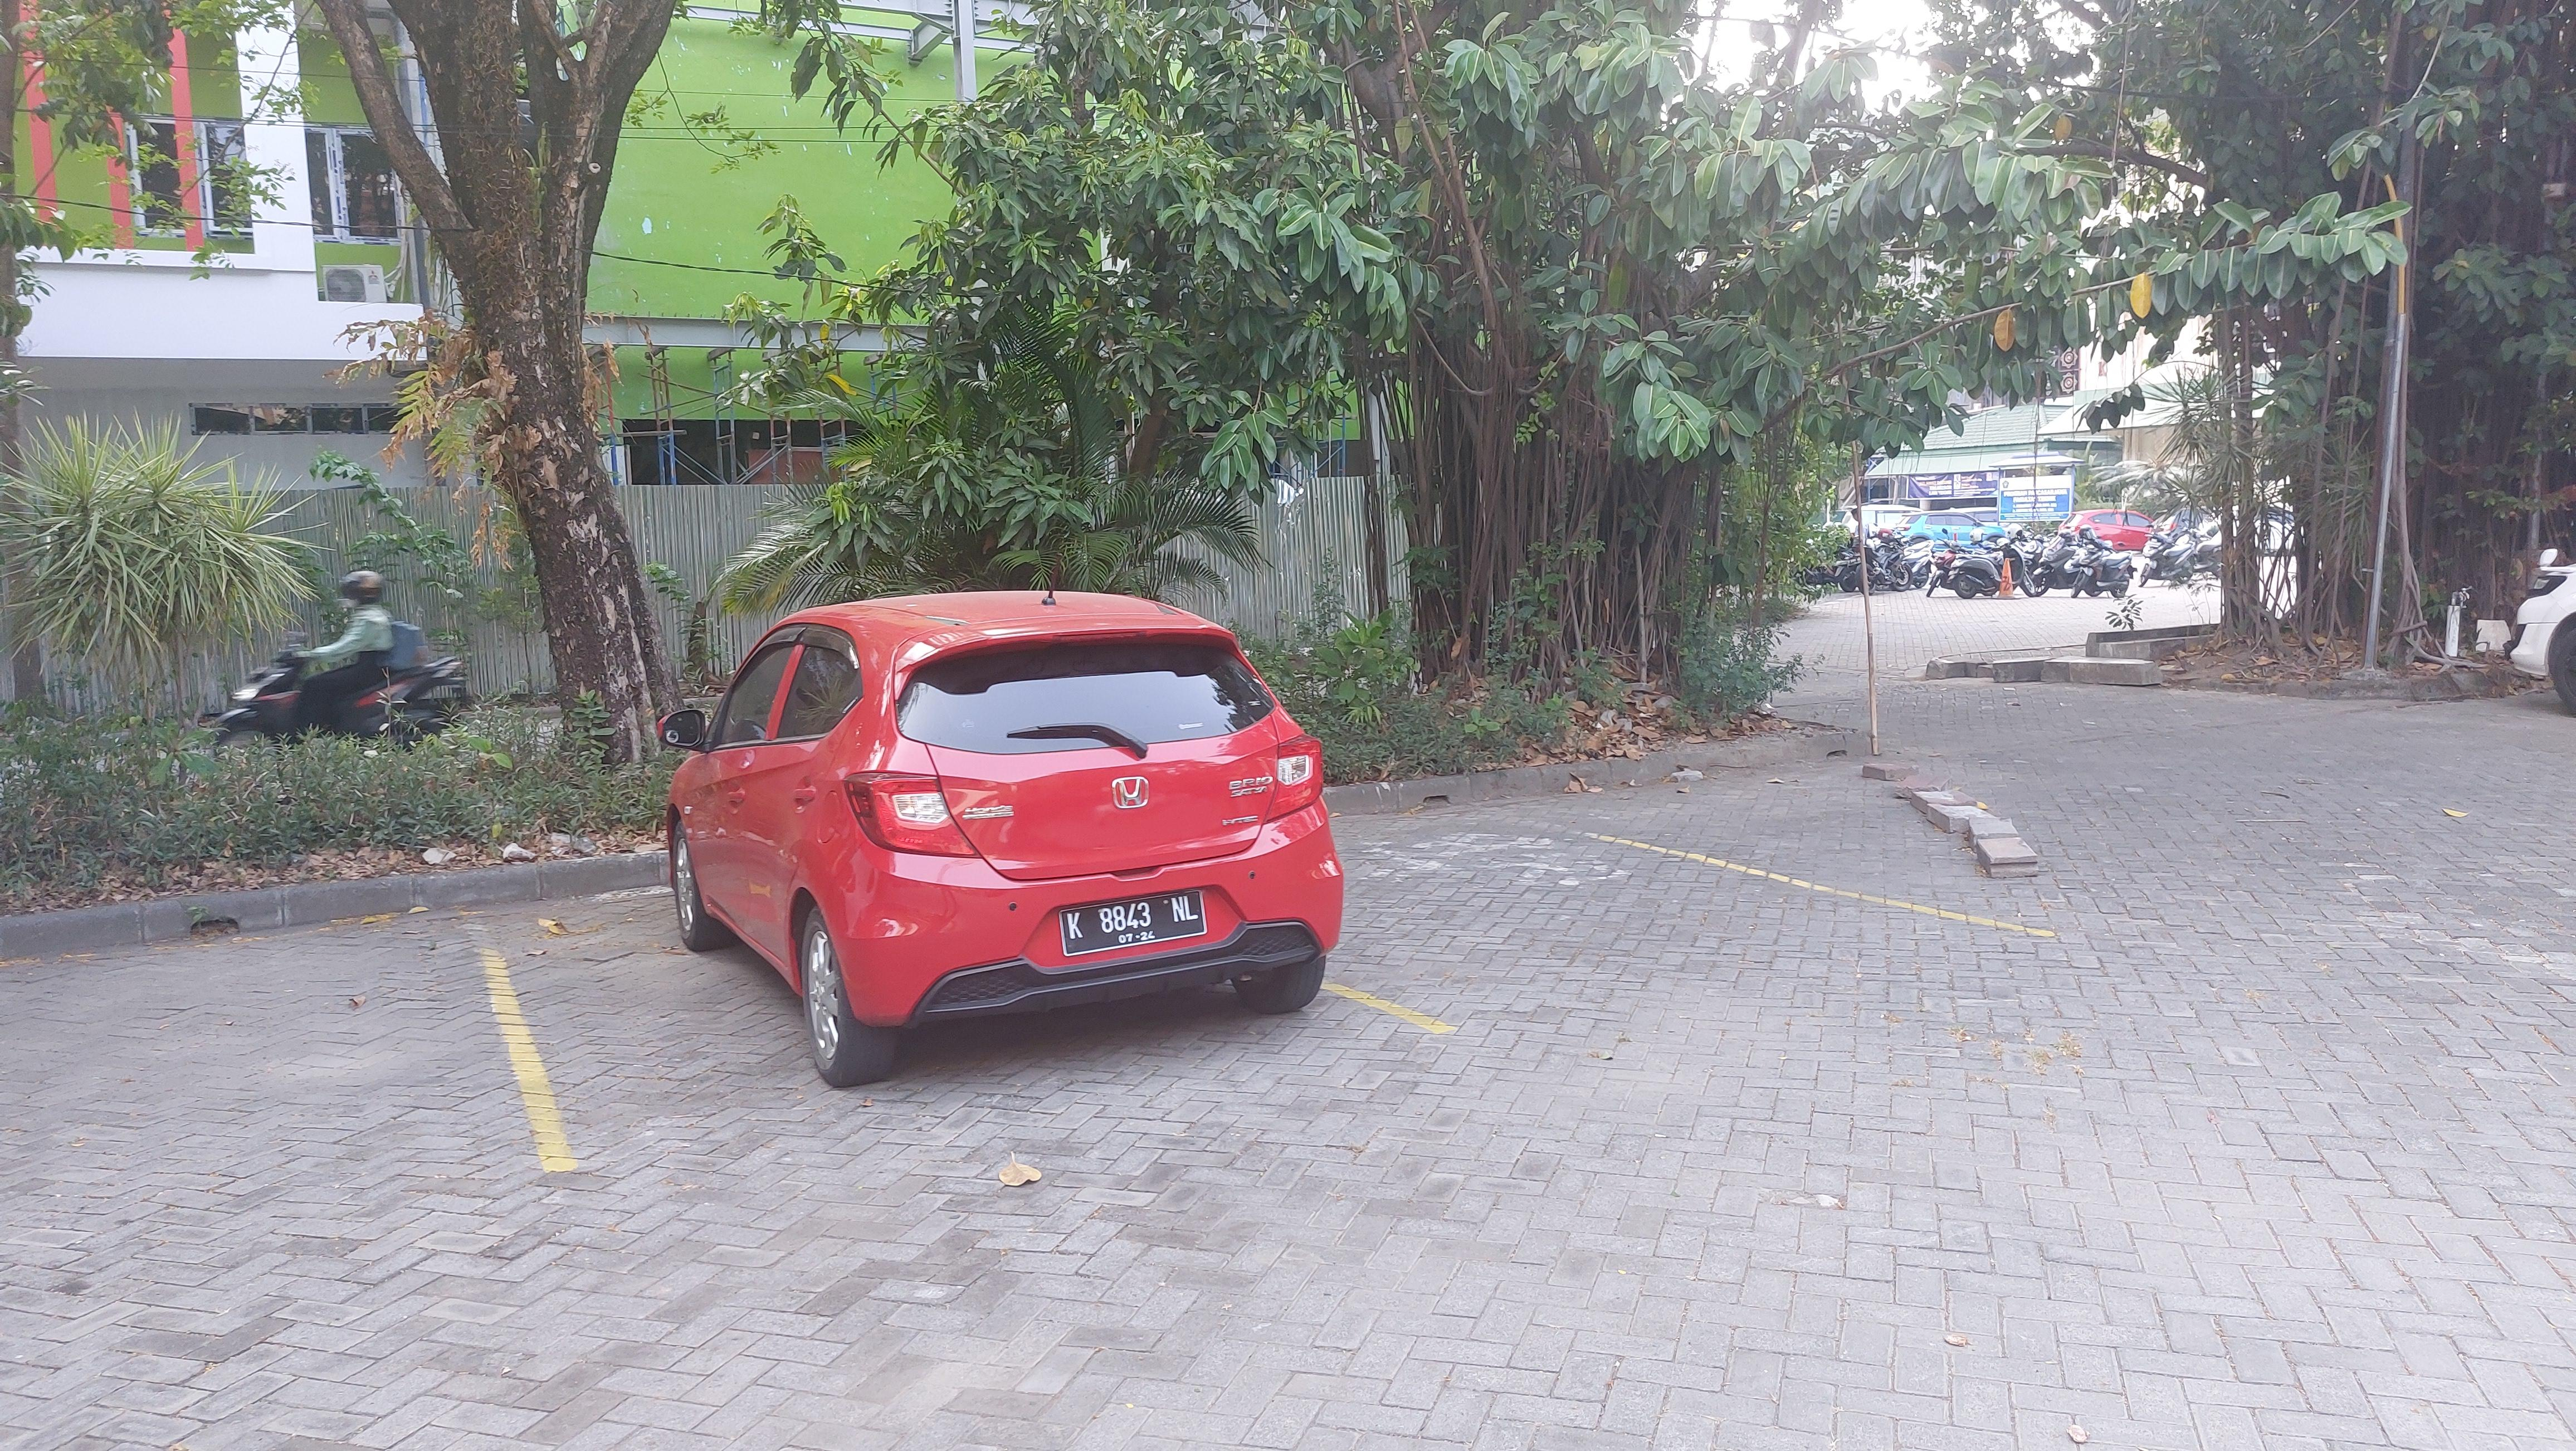empty: (1, 906, 550, 1215), (1333, 800, 2045, 1035)
occupied: (480, 588, 1461, 1157)
